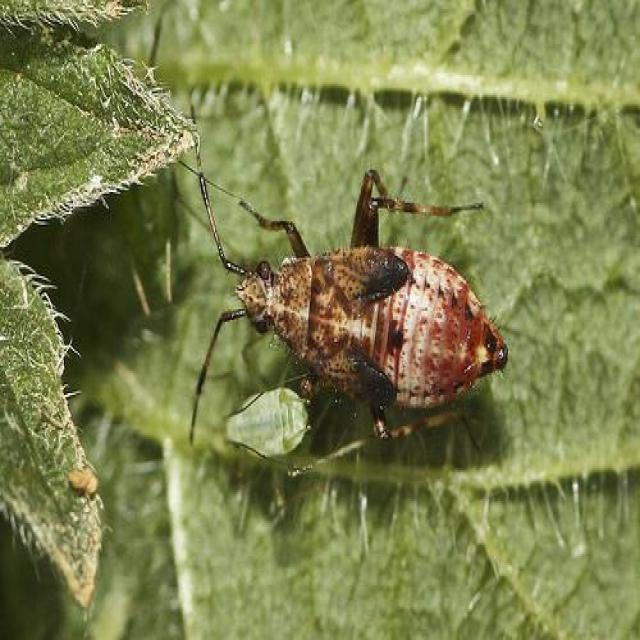Miridae-Adult-: (175, 99, 532, 492)
